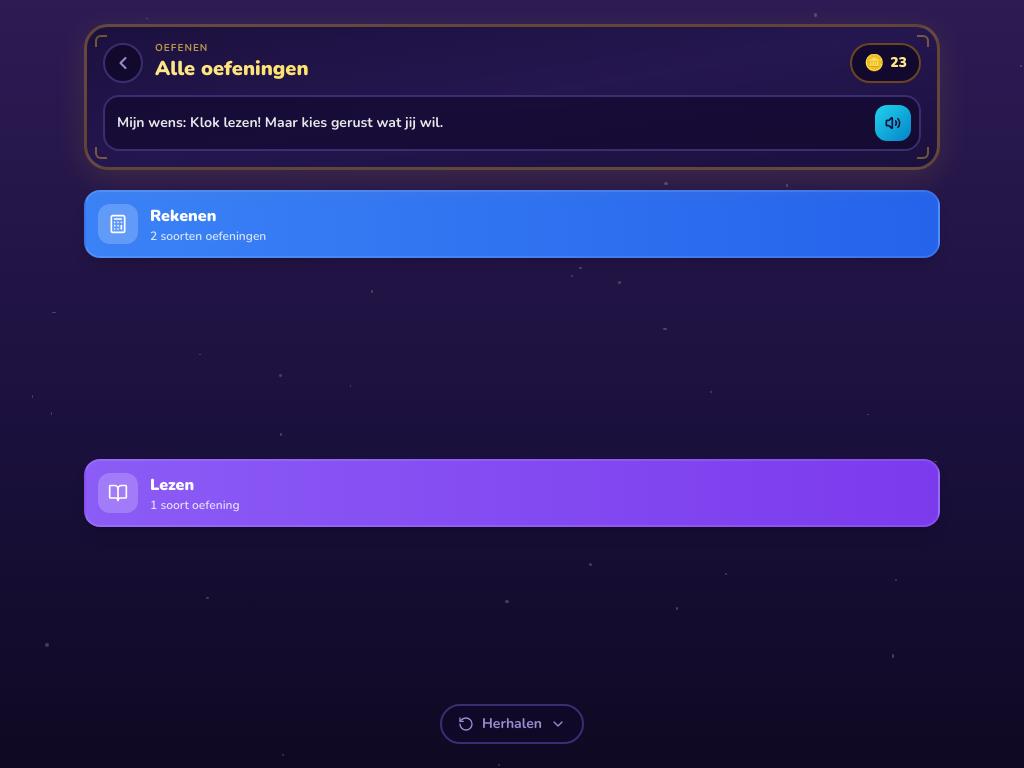
Practice › keeps Herhalen folded behind a button, and opens the lower grade version
The width and height of the screenshot is (1024, 768).
Later steps or results of the test are not shown.
Click the button "Herhalen": x=512, y=724 x1=440 y1=704 x2=584 y2=744
(page scrolled)
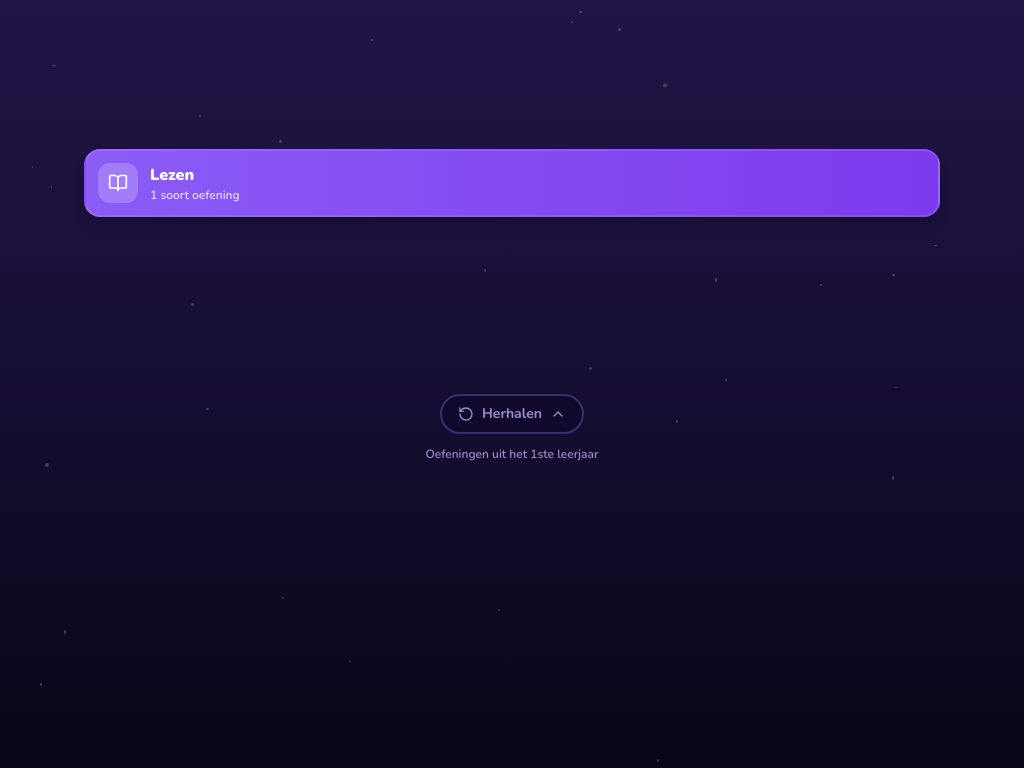
expect the button "Herhalen" is expanded: met, box x1=440 y1=394 x2=584 y2=434
expect the text "Oefeningen uit het 1ste leerjaar" is shown: met, box x1=426 y1=446 x2=598 y2=462
